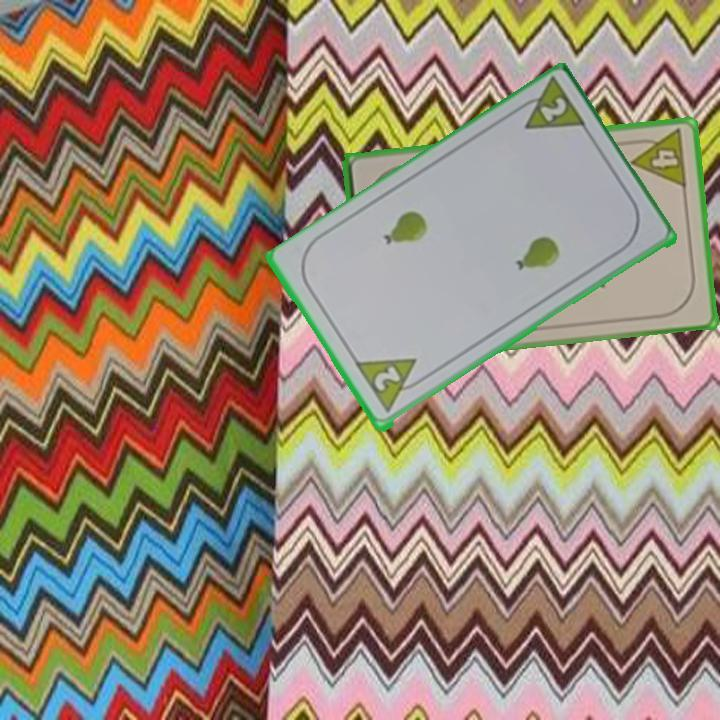2p: (352, 354, 430, 418), (509, 76, 590, 134)
4p: (626, 126, 690, 191)
